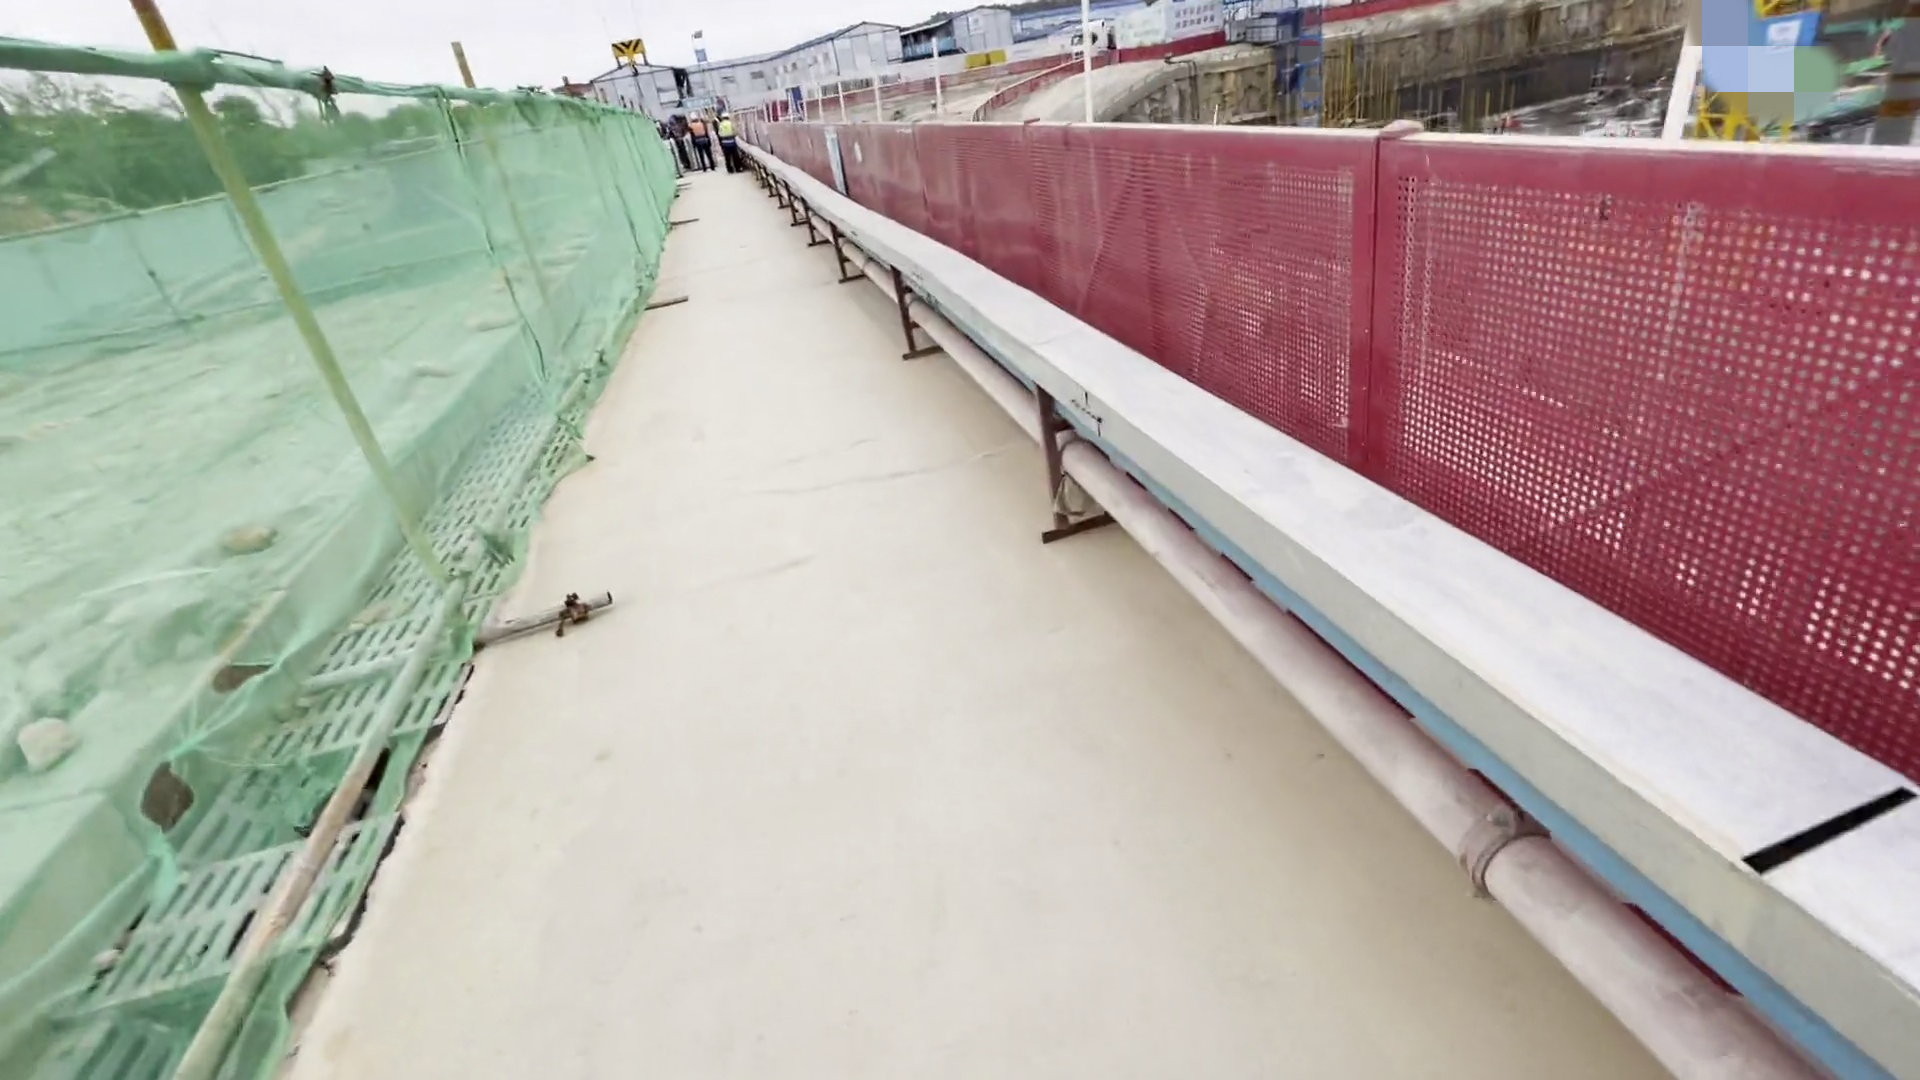fence: (632, 87, 1888, 782)
helmet: (688, 111, 704, 124), (718, 111, 731, 119)
hook: (599, 27, 666, 91)
person: (682, 100, 716, 182), (714, 109, 747, 180)
vest: (689, 121, 712, 146), (720, 123, 735, 146)
